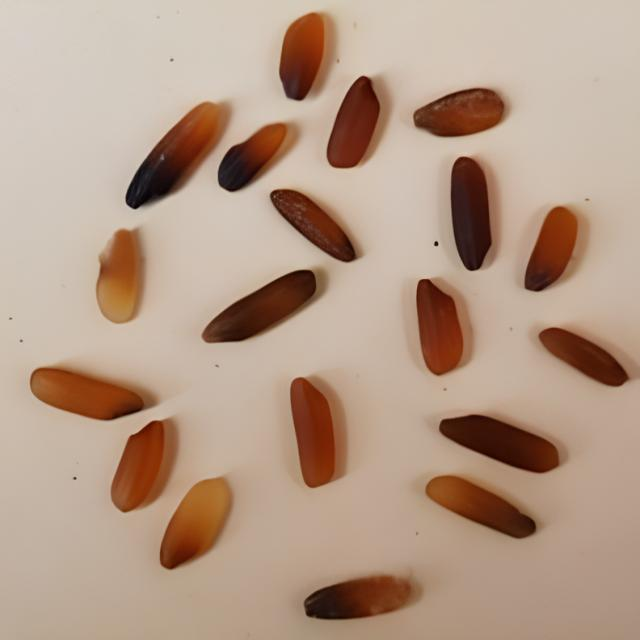Broken: (125, 100, 220, 209), (201, 269, 317, 344), (439, 414, 559, 474), (425, 475, 536, 539), (160, 476, 233, 571), (30, 366, 144, 421), (270, 189, 355, 262), (538, 327, 629, 387), (326, 76, 381, 169), (110, 420, 165, 513), (290, 377, 335, 488), (303, 574, 412, 619), (217, 122, 287, 192), (450, 156, 492, 272), (416, 278, 464, 376), (524, 206, 578, 292), (413, 87, 505, 137), (96, 227, 140, 323), (279, 12, 325, 101)
